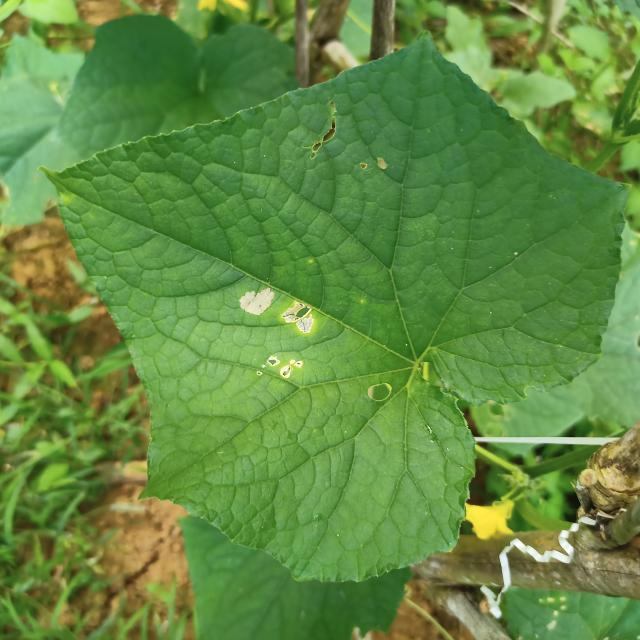disease_cucumber: (240, 286, 318, 382)
